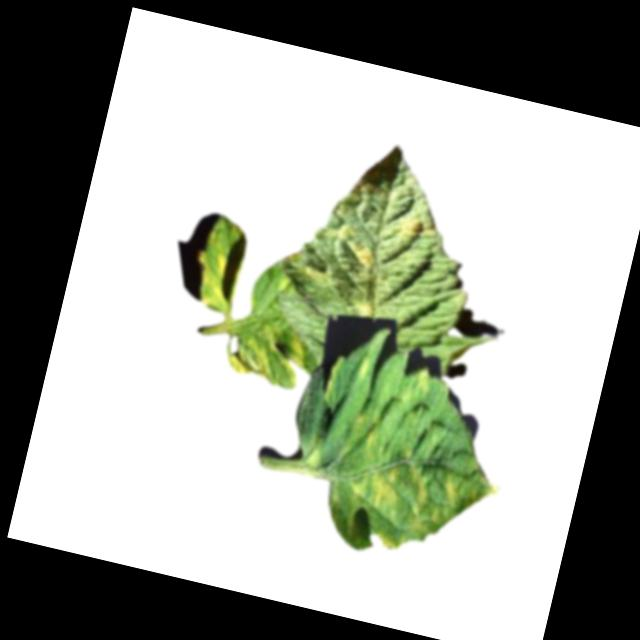Leaf_Mold: (326, 410, 511, 571), (215, 316, 311, 391), (189, 217, 251, 317), (391, 209, 438, 246), (337, 235, 381, 271), (350, 295, 377, 317)
